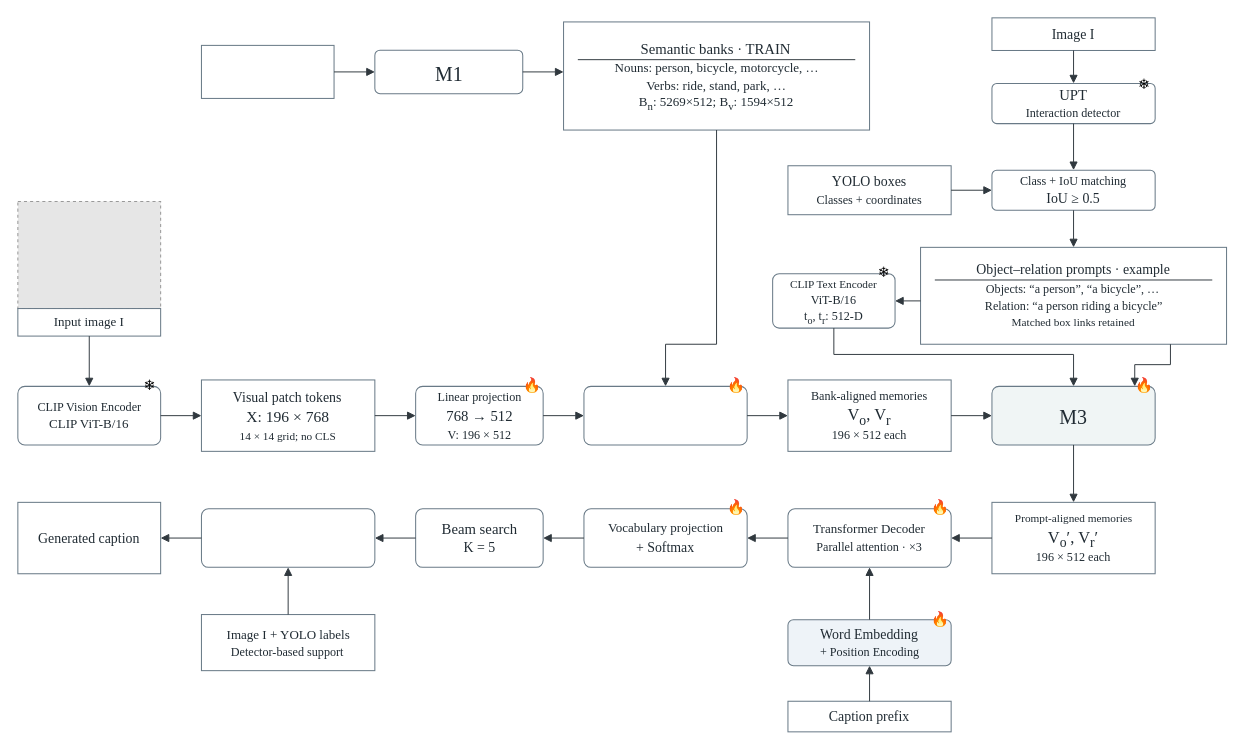
Image size: 1244x750. Some labels were removed from this diagram. Grey dashed boxes stand in for pictures. The centre of each missing label's shape, as x and y in pixels:
Caption reranking: the point at 287,537
M2: the point at 665,415
TRAIN captions: the point at 267,71
